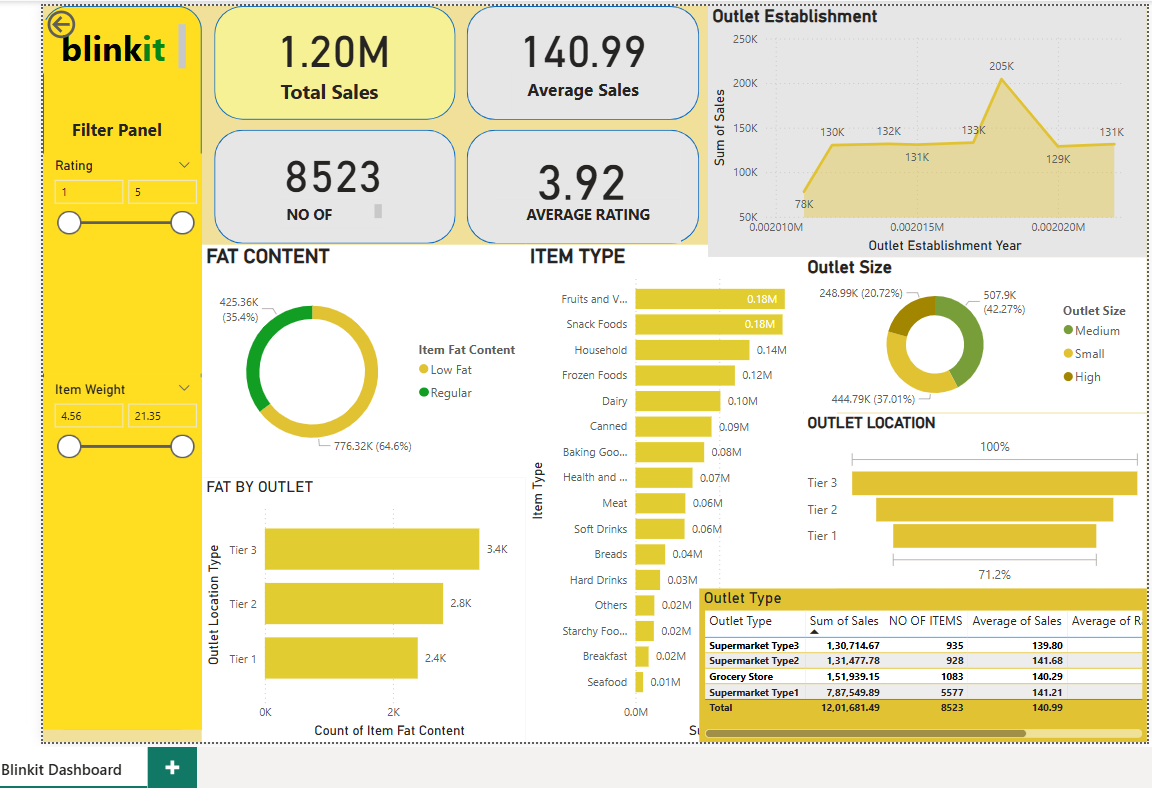

The dashboard page shown, as its layout file describes it:
{"tool":"powerbi","page":{"name":"Blinkit Dashboard","canvas":[1200,800],"ordinal":0},"visuals":[{"type":"shape","box":[186.1,0,262.2,123.6],"z":0},{"type":"shape","box":[460,135,252.5,123.8],"z":1000},{"type":"shape","box":[460,0,252.5,123.8],"z":2000},{"type":"shape","box":[186.2,135,262.5,123.8],"z":3000},{"type":"shape","box":[0,0,172.6,786.7],"z":4000},{"type":"textbox","box":[0,14.9,160.3,58.4],"z":5000},{"type":"card","fields":{"Values":["Sum(BlinkIT Grocery Data.Sales)"]},"box":[229.6,14.9,172.6,58.4],"z":6000},{"type":"textbox","box":[248.6,73.4,125,43.5],"z":7000},{"type":"donutChart","title":"FAT CONTENT","fields":{"Category":["BlinkIT Grocery Data.Item Fat Content"],"Y":["Sum(BlinkIT Grocery Data.Sales)"]},"box":[172.5,260,352.5,252.5],"z":8000},{"type":"barChart","title":"ITEM TYPE","fields":{"Category":["BlinkIT Grocery Data.Item Type"],"Y":["Sum(BlinkIT Grocery Data.Sales)"]},"box":[524.5,259.5,338.3,540.8],"z":9000},{"type":"card","fields":{"Values":["Avg(BlinkIT Grocery Data.Sales)"]},"box":[509.5,14.9,154.9,58.4],"z":10000},{"type":"textbox","box":[509.5,73.4,154.9,43.5],"z":11000},{"type":"barChart","title":"FAT BY OUTLET","fields":{"Category":["BlinkIT Grocery Data.Outlet Location Type"],"Y":["CountNonNull(BlinkIT Grocery Data.Item Fat Content)"]},"box":[172.6,512.2,351.9,288],"z":12000},{"type":"card","fields":{"Values":["Avg(BlinkIT Grocery Data.Rating)"]},"box":[476.9,149.5,217.4,70.7],"z":13000},{"type":"textbox","box":[492.5,211.2,201.2,47.5],"z":14000},{"type":"card","fields":{"Values":["ALL MEASURES.NO OF ITEM"]},"box":[230,148.8,172.5,62.5],"z":15000},{"type":"textbox","box":[259.5,210.6,159,31.3],"z":16000},{"type":"areaChart","title":"Outlet Establishment","fields":{"Category":["BlinkIT Grocery Data.Outlet Establishment Year"],"Y":["Sum(BlinkIT Grocery Data.Sales)"]},"box":[722.8,0,476.9,273.1],"z":17000},{"type":"donutChart","title":"Outlet  Size","fields":{"Category":["BlinkIT Grocery Data.Outlet Size"],"Y":["Sum(BlinkIT Grocery Data.Sales)"]},"box":[826.1,273.1,373.6,168.5],"z":18000},{"type":"funnel","title":"OUTLET LOCATION","fields":{"Category":["BlinkIT Grocery Data.Outlet Location Type"],"Y":["Sum(BlinkIT Grocery Data.Outlet Establishment Year)"]},"box":[826.1,442.9,373.6,190.2],"z":19000},{"type":"tableEx","title":"Outlet Type","fields":{"Values":["BlinkIT Grocery Data.Outlet Type","Sum(BlinkIT Grocery Data.Sales)","ALL MEASURES.NO OF ITEMS","Avg(BlinkIT Grocery Data.Sales)","Avg(BlinkIT Grocery Data.Rating)","Sum(BlinkIT Grocery Data.Item Visibility)"]},"box":[713.3,633.2,486.4,167.1],"z":20000},{"type":"textbox","box":[0,116.8,160.3,48.9],"z":21000},{"type":"slicer","fields":{"Values":["BlinkIT Grocery Data.Rating"]},"box":[0,160.3,172.6,239.1],"z":22000},{"type":"actionButton","box":[0,0,100,40],"z":23000},{"type":"slicer","fields":{"Values":["BlinkIT Grocery Data.Item Weight"]},"box":[0,403.5,172.6,383.2],"z":24000}]}

Visuals, with their boxes on the page's 1200x800 design canvas (x1, y1, x2, y2). These are canvas units, not pixel positions in the 1152x788 screenshot, which may show the page scaled, cropped or inside an application window:
shape: box(186, 0, 448, 124)
shape: box(460, 135, 712, 259)
shape: box(460, 0, 712, 124)
shape: box(186, 135, 449, 259)
shape: box(0, 0, 173, 787)
textbox: box(0, 15, 160, 73)
card - Sum(BlinkIT Grocery Data.Sales): box(230, 15, 402, 73)
textbox: box(249, 73, 374, 117)
"FAT CONTENT" donutChart: box(172, 260, 525, 512)
"ITEM TYPE" barChart: box(524, 260, 863, 800)
card - Avg(BlinkIT Grocery Data.Sales): box(510, 15, 664, 73)
textbox: box(510, 73, 664, 117)
"FAT BY OUTLET" barChart: box(173, 512, 524, 800)
card - Avg(BlinkIT Grocery Data.Rating): box(477, 150, 694, 220)
textbox: box(492, 211, 694, 259)
card - ALL MEASURES.NO OF ITEM: box(230, 149, 402, 211)
textbox: box(260, 211, 418, 242)
"Outlet Establishment" areaChart: box(723, 0, 1200, 273)
"Outlet  Size" donutChart: box(826, 273, 1200, 442)
"OUTLET LOCATION" funnel: box(826, 443, 1200, 633)
"Outlet Type" tableEx: box(713, 633, 1200, 800)
textbox: box(0, 117, 160, 166)
slicer - BlinkIT Grocery Data.Rating: box(0, 160, 173, 399)
actionButton: box(0, 0, 100, 40)
slicer - BlinkIT Grocery Data.Item Weight: box(0, 404, 173, 787)
